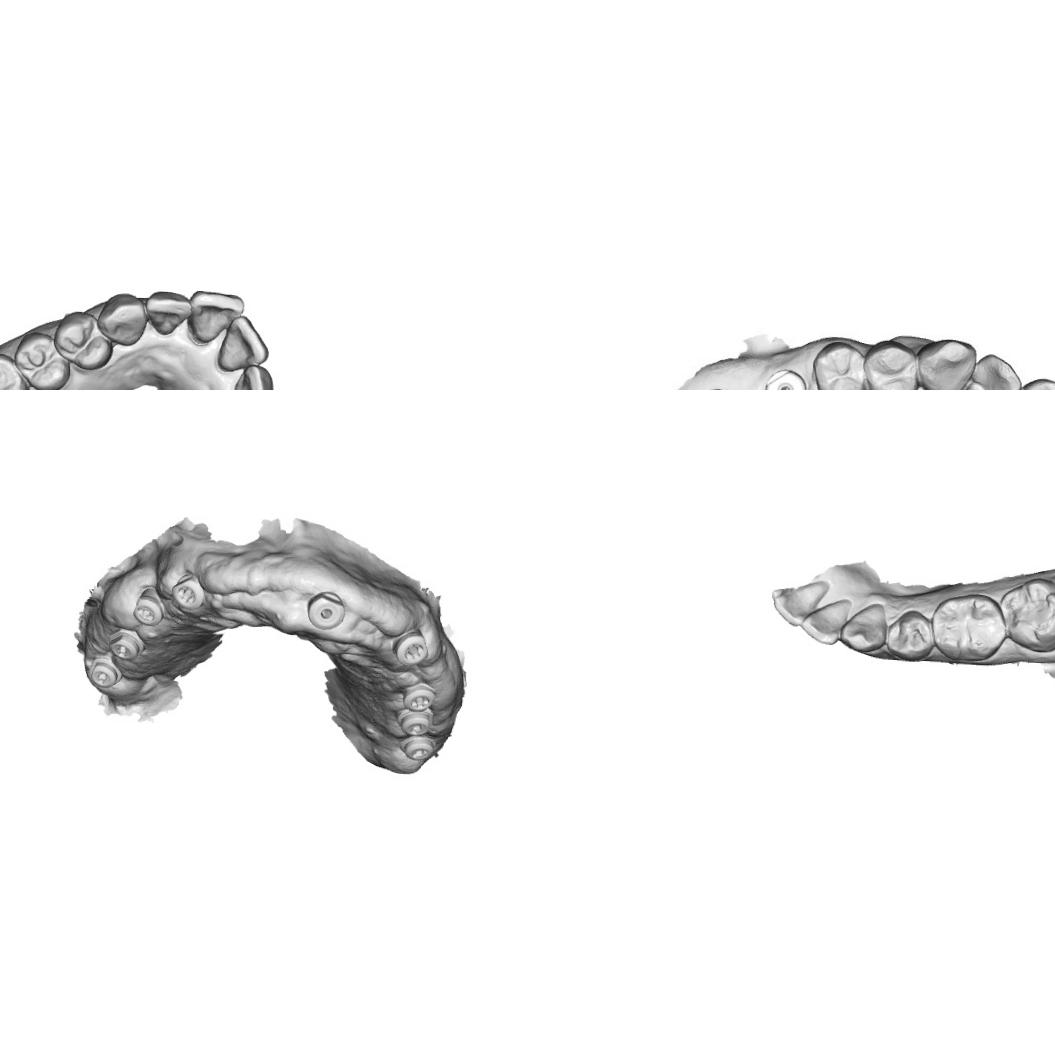canine: (95, 290, 148, 347), (918, 339, 972, 390), (838, 601, 888, 655)
implant: (306, 590, 347, 632), (764, 365, 808, 390)
implant_minus: (87, 650, 124, 688), (106, 626, 146, 661), (131, 586, 165, 627), (399, 734, 437, 762), (396, 711, 430, 737)
implant_plus: (392, 630, 430, 668), (170, 572, 206, 612), (402, 682, 436, 712)
incisor: (214, 313, 272, 374), (186, 288, 246, 345), (771, 578, 829, 628), (798, 596, 852, 647), (143, 290, 193, 338), (966, 356, 1024, 390), (231, 363, 275, 390)
molar: (997, 576, 1055, 653), (0, 351, 35, 390)
premolar: (929, 591, 1007, 664), (52, 310, 114, 371), (12, 330, 72, 390), (809, 334, 871, 390), (882, 608, 936, 663), (863, 342, 923, 390)
